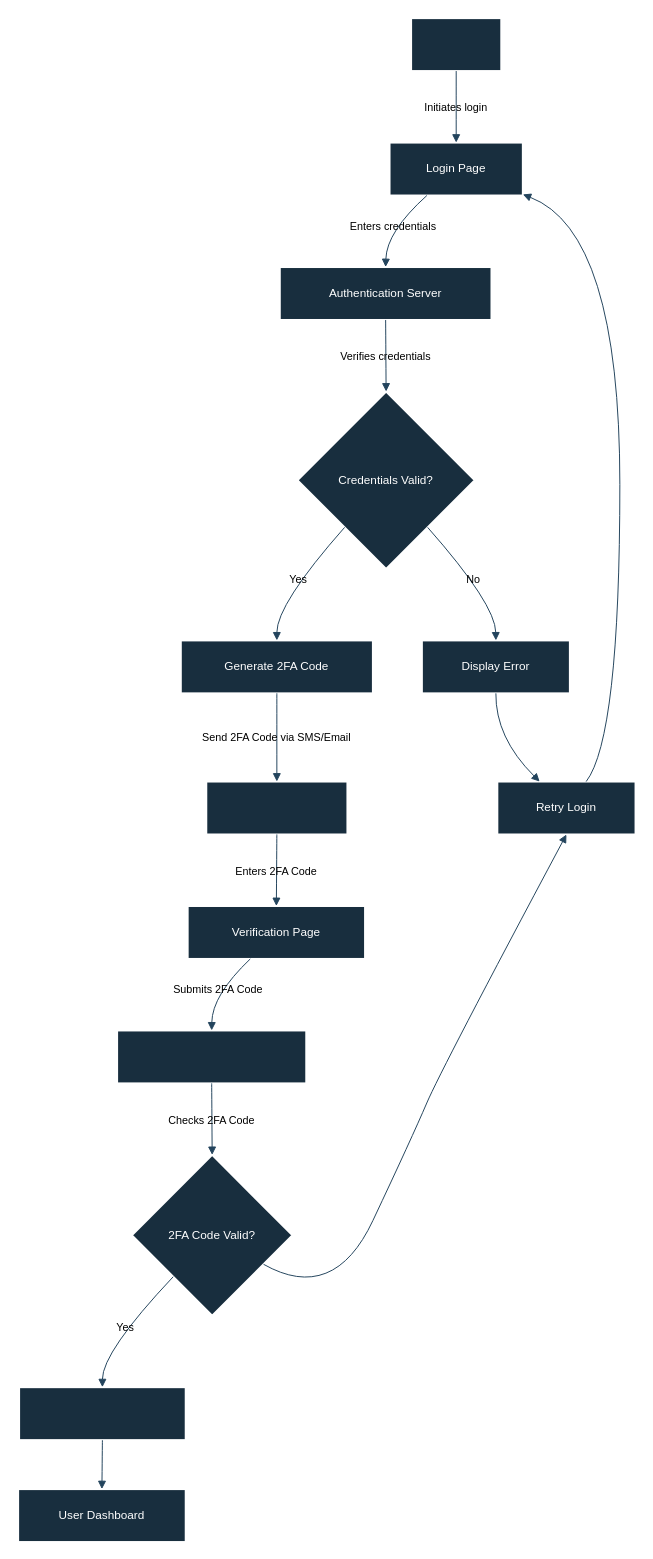
Some shapes in this 653 by 1559 pixel diagram are drawn without their labels. The shapes that lost their labels are listed below. From the top down, each one's centre as x and y in pixels, then its label:
the point at 456,44: User
the point at 276,807: User Device
the point at 211,1056: Verification Server
the point at 102,1413: Access Granted
